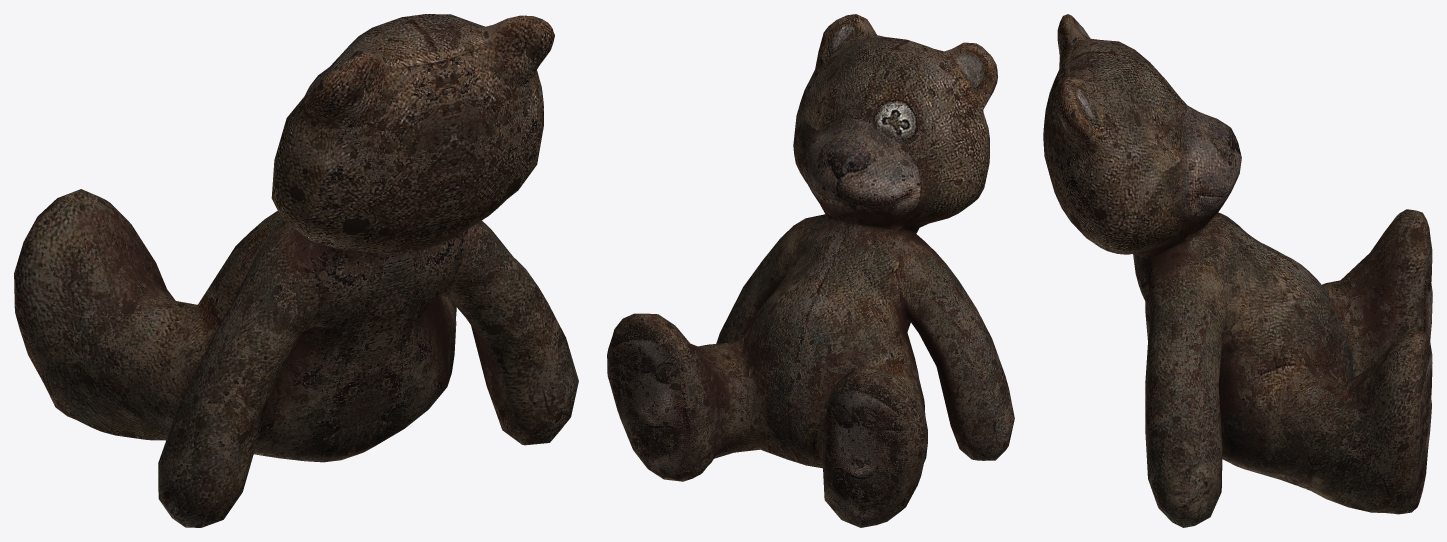
The model's file is bear_bur.obj.
The picture shows the model from 3 angles, left to right: view 1: azimuth 30°, elevation 25°; view 2: azimuth 150°, elevation 25°; view 3: azimuth 270°, elevation 25°; orthographic projection. The views are drawn at different scales.
Parts seen in each view (by area): view 1: bear_bur_01; view 2: bear_bur_01; view 3: bear_bur_01.
Part boxes in pixels (x1=…): bear_bur_01: x1=14, y1=14, x2=578, y2=527; bear_bur_01: x1=607, y1=14, x2=1014, y2=527; bear_bur_01: x1=1043, y1=14, x2=1432, y2=527.
Size of the model in its own units: 15 by 16.61 by 14.24.
